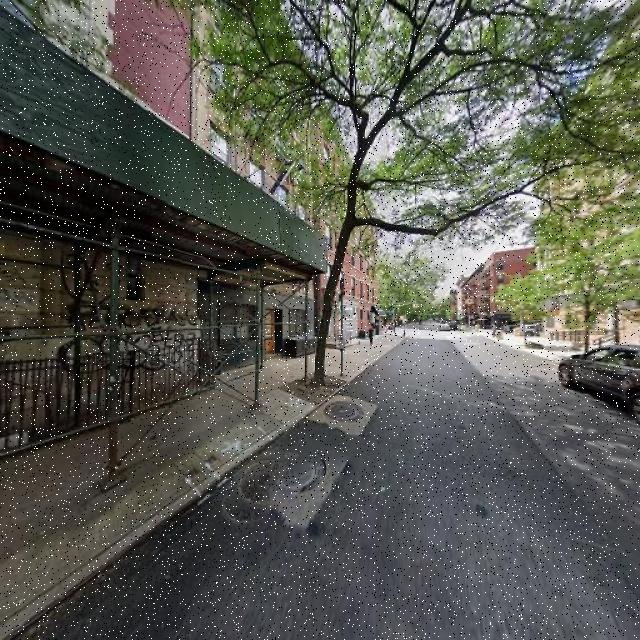Building: (1, 1, 187, 438), (190, 1, 314, 385), (537, 4, 640, 350), (317, 79, 377, 349)
